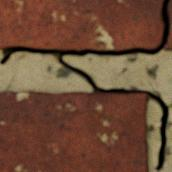brick: (0, 90, 148, 171)
broken_brick: (0, 0, 163, 50), (163, 0, 171, 50)
crack: (0, 0, 170, 171)
